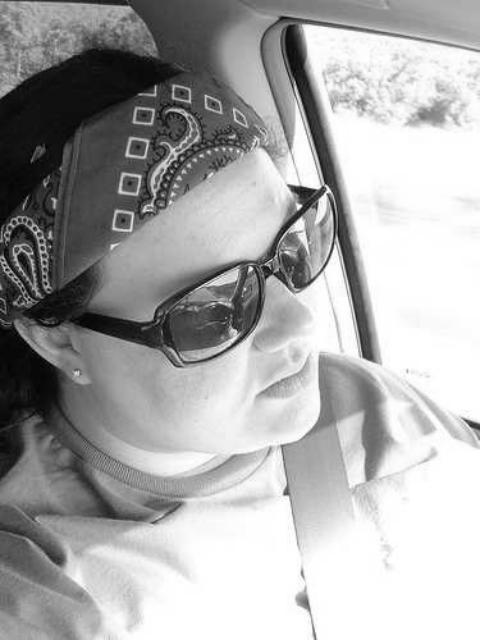Seatbelt: (272, 398, 358, 640)
